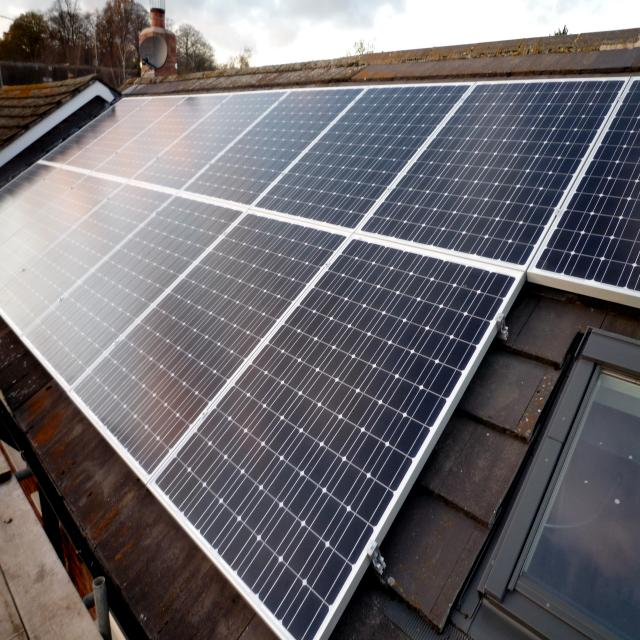crack: (133, 269, 524, 640), (62, 204, 355, 476), (344, 80, 628, 282)
